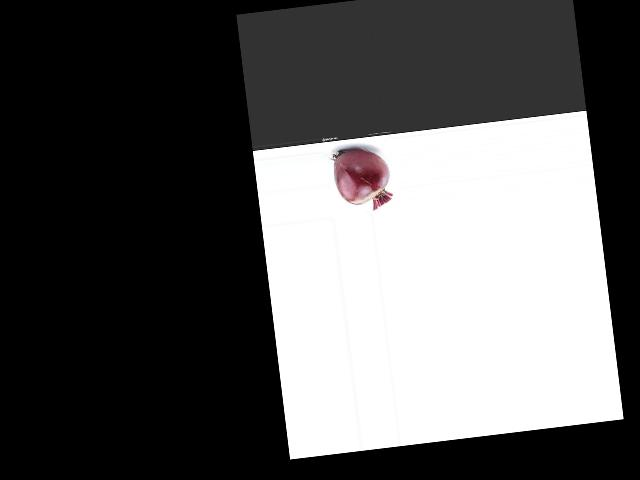beet: (331, 145, 394, 214)
